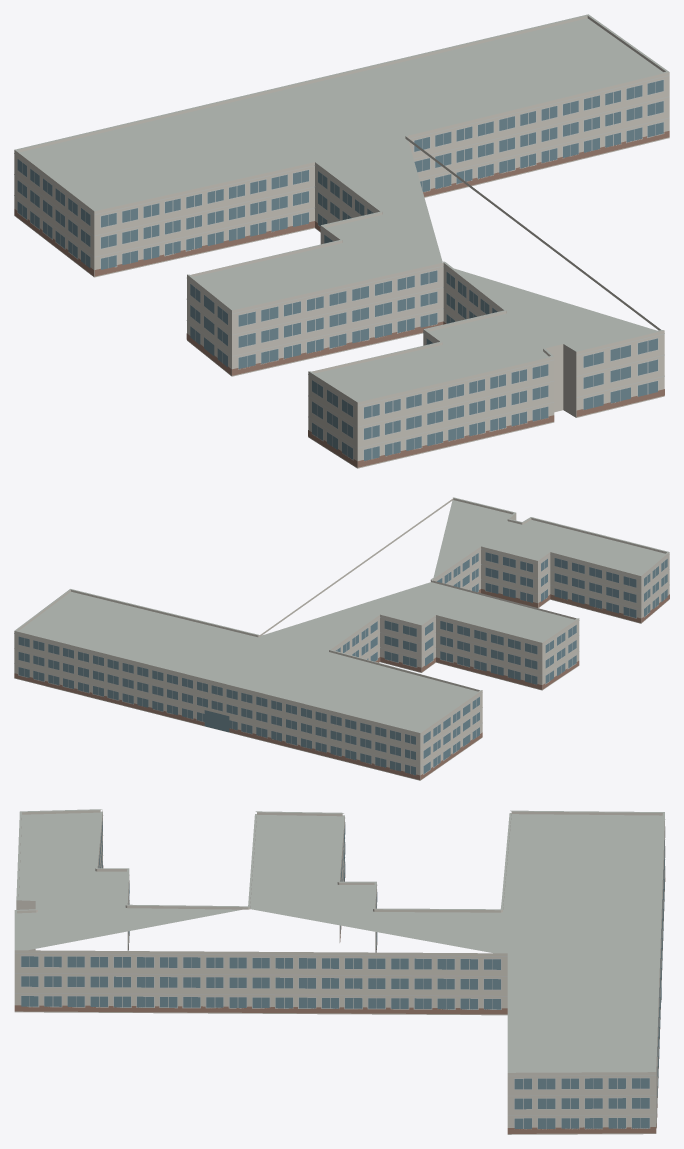
Rendered from public-f3b11f74-9c3a-4e62-80f7-39c14ae332f8.glb.
3 renders of one model, top to bottom at view 1: azimuth 30°, elevation 25°; view 2: azimuth 150°, elevation 25°; view 3: azimuth 270°, elevation 25°, orthographic. The views are drawn at different scales.
Parts seen in each view (by area): view 1: public-f3b11f74-9c3a-4e62-80f7-39c14ae332f8; view 2: public-f3b11f74-9c3a-4e62-80f7-39c14ae332f8; view 3: public-f3b11f74-9c3a-4e62-80f7-39c14ae332f8.
Part boxes in pixels (x1,y1,x2,y2): public-f3b11f74-9c3a-4e62-80f7-39c14ae332f8: (14, 14, 669, 468); public-f3b11f74-9c3a-4e62-80f7-39c14ae332f8: (14, 497, 669, 780); public-f3b11f74-9c3a-4e62-80f7-39c14ae332f8: (14, 809, 665, 1134).
Size of the model in its own units: 83.63 by 9.15 by 87.77.
